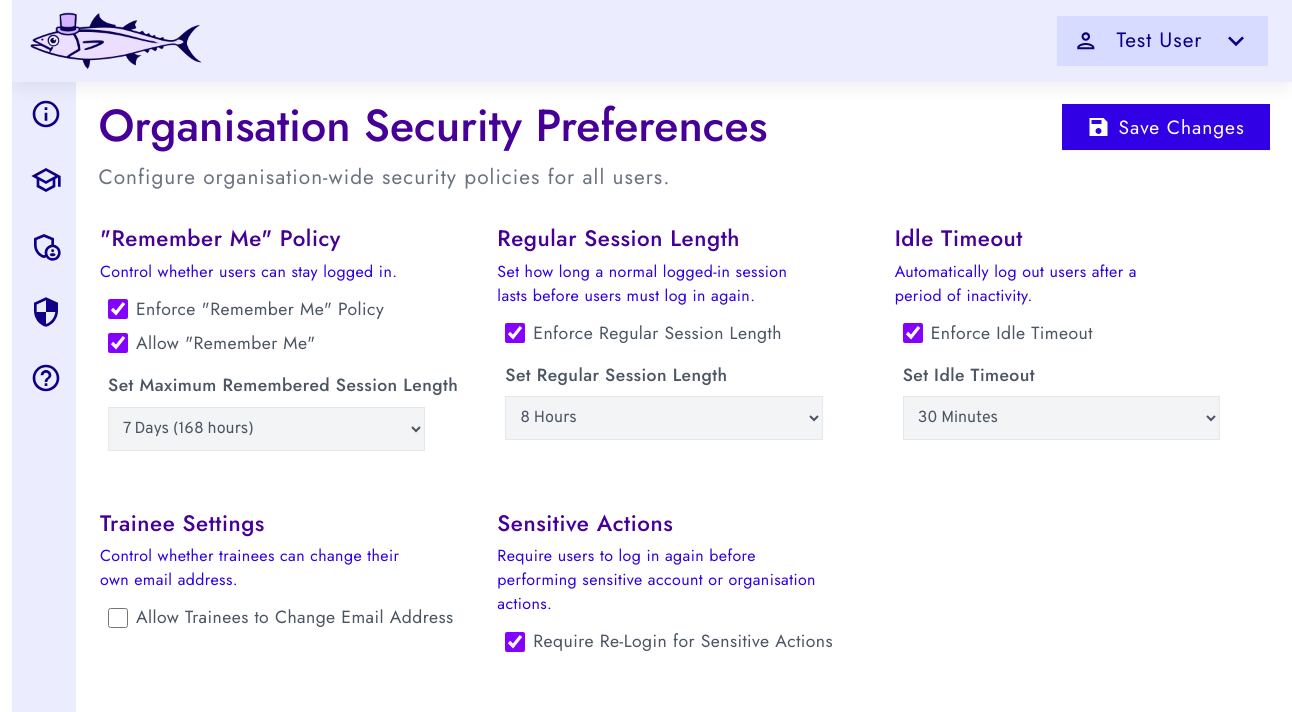
OrganisationSecuritySettingsPage › submits updated settings successfully and updates UI state
This screenshot has width=1292, height=712.
What coordinates should you click on to do the following:
click the button "Save Changes"
I would click on:
 (1166, 127)
Its box is [1062,104,1270,150].
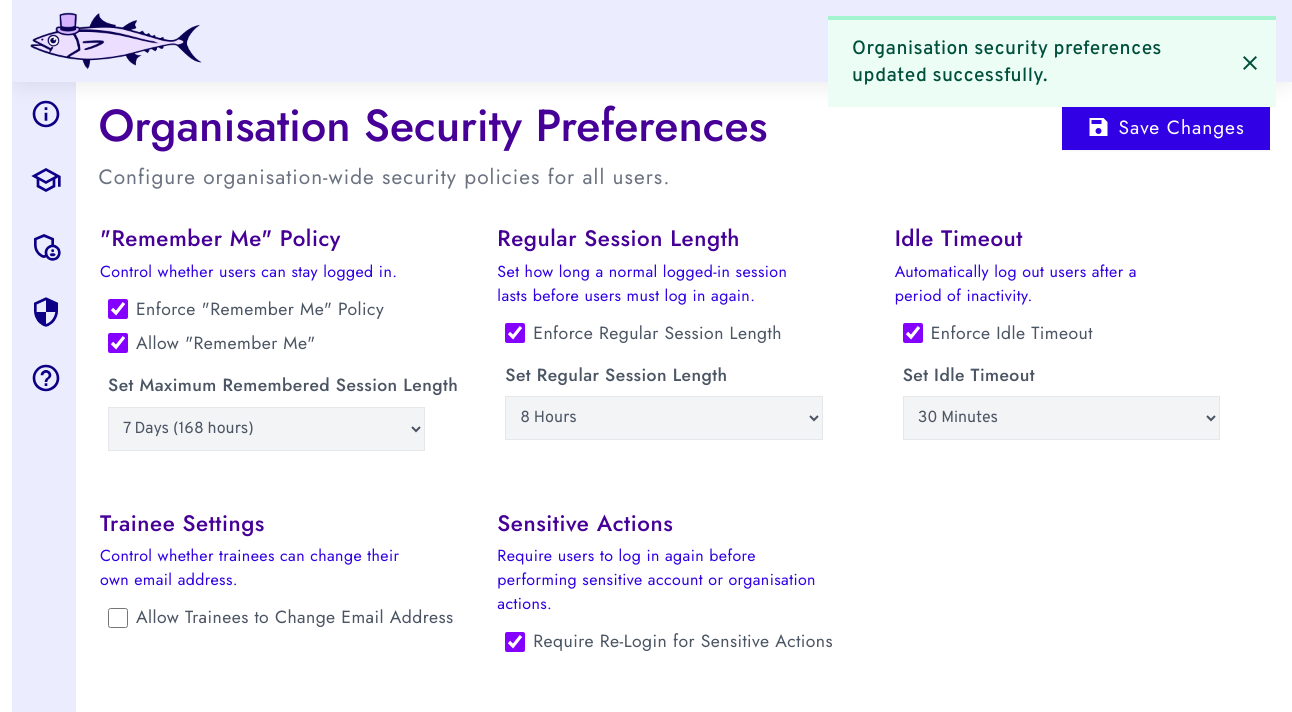
Result: the text "Organisation security preferences updated successfully." is shown at [852,37,1162,88]
